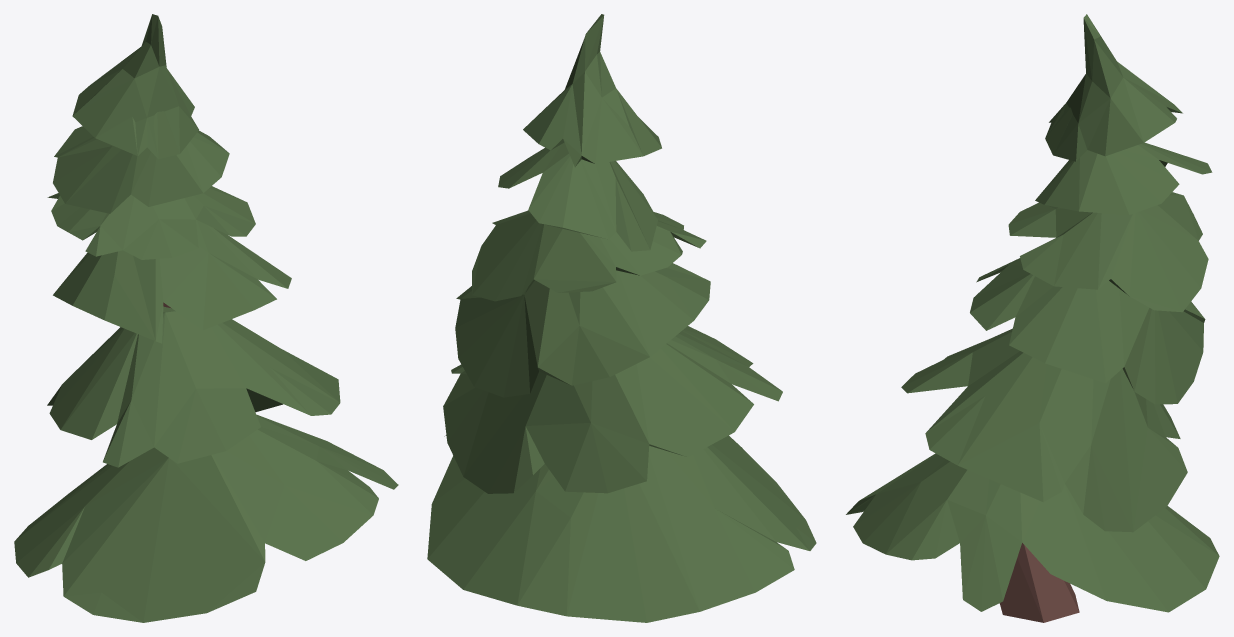
Rendered from PineTree_3.lod2.glb.
3 views of the same model, side by side, from view 1: azimuth 30°, elevation 25°; view 2: azimuth 150°, elevation 25°; view 3: azimuth 270°, elevation 25° (orthographic). The views are drawn at different scales.
Parts seen in each view (by area): view 1: PineTree_3; view 2: PineTree_3; view 3: PineTree_3.
Part boxes in pixels (x1,y1,x2,y2): PineTree_3: (14,14,398,622); PineTree_3: (427,14,816,622); PineTree_3: (846,14,1219,622).
Bounding box in the file's own units: 2.15 × 3.31 × 1.94.
